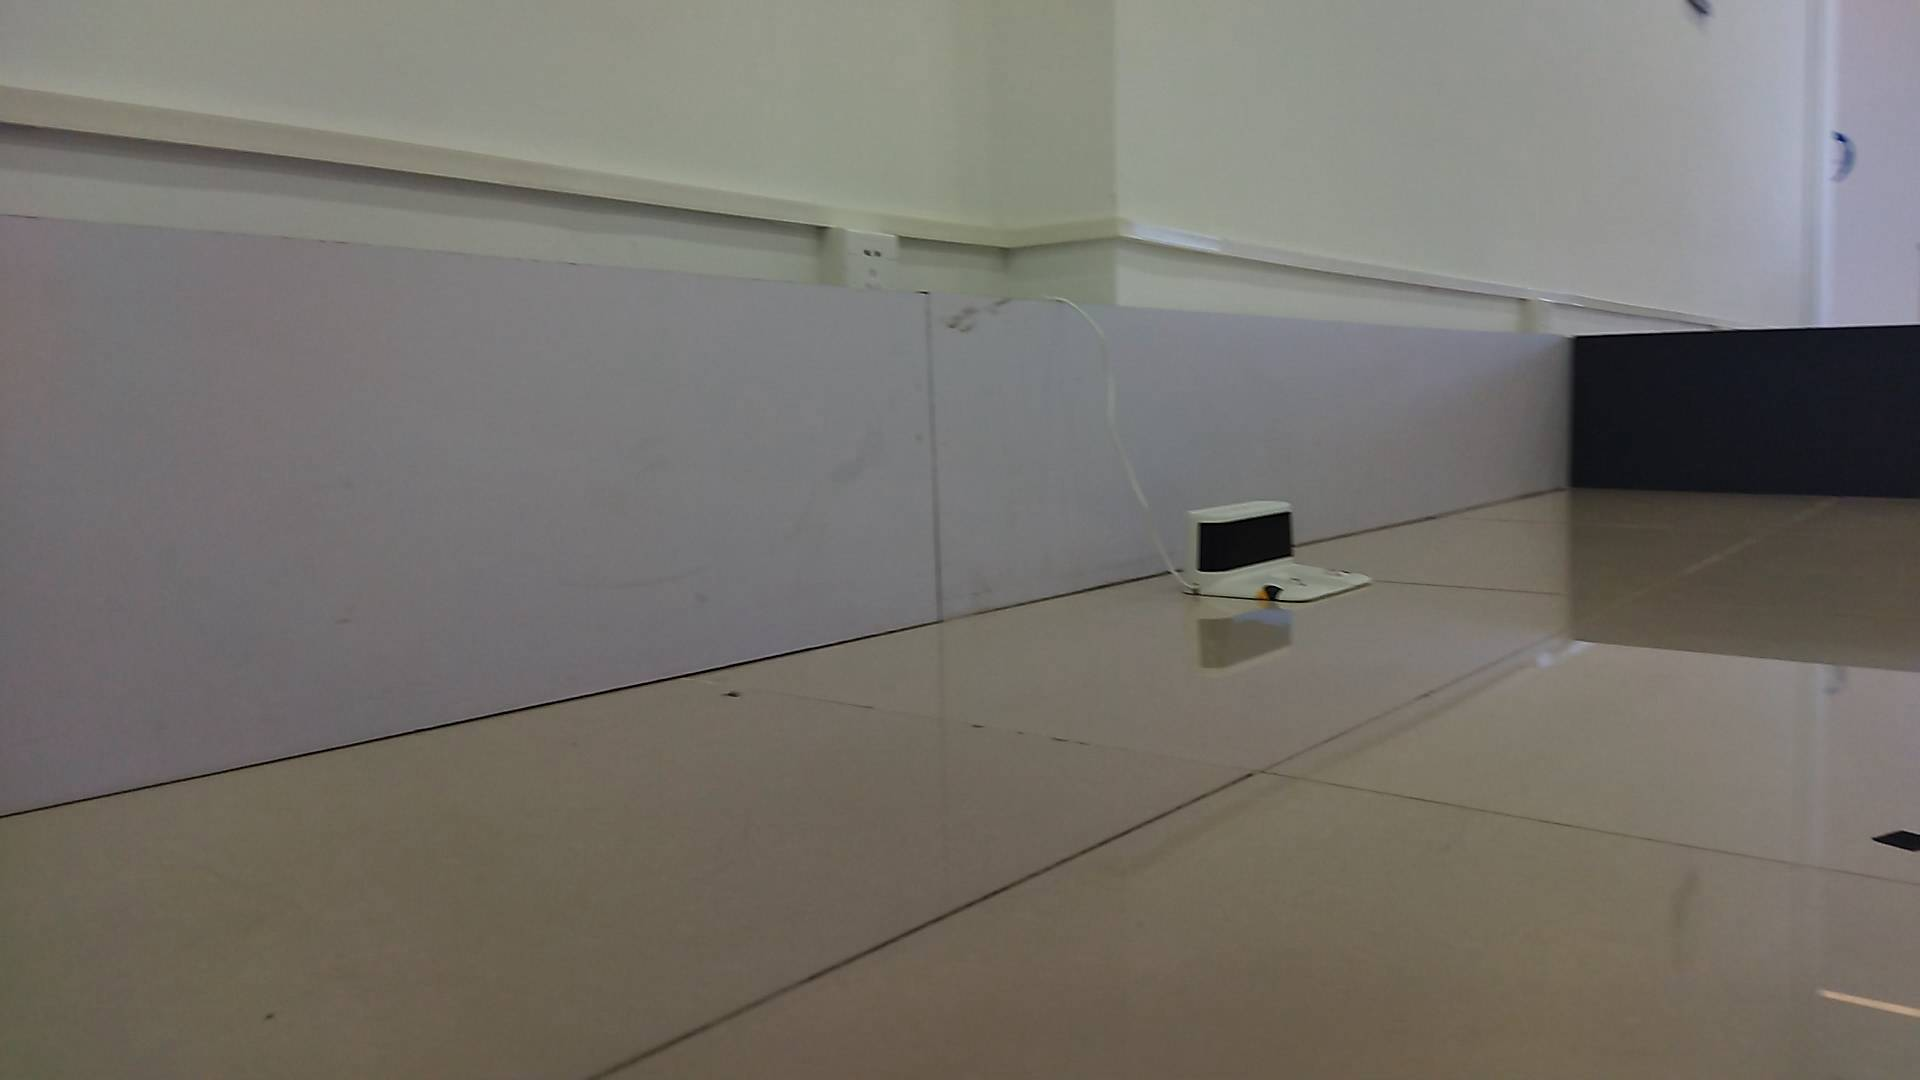recharge seat: (1185, 498, 1373, 603)
